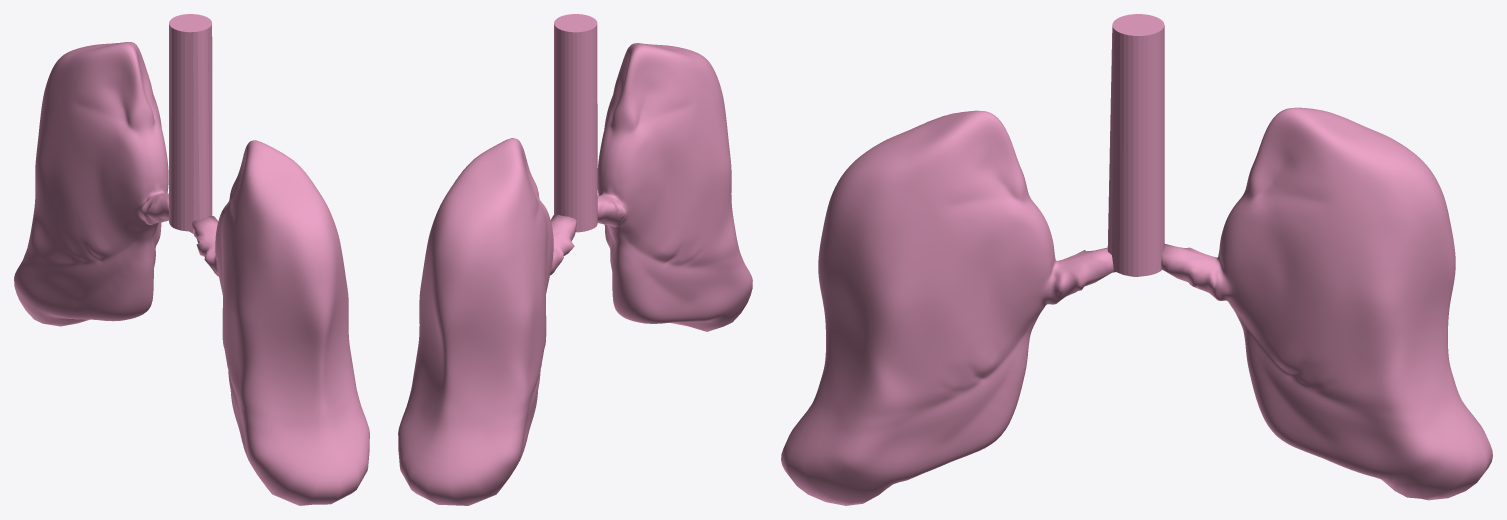
Rendered from lungs.fbx.
3 views of the same model, side by side, from view 1: azimuth 30°, elevation 25°; view 2: azimuth 150°, elevation 25°; view 3: azimuth 270°, elevation 25° (orthographic). The views are drawn at different scales.
Parts seen in each view (by area): view 1: Quad Sphere; view 2: Quad Sphere; view 3: Quad Sphere.
Part boxes in pixels (box(x1,y1,x2,y2)): Quad Sphere: box(14, 14, 369, 505); Quad Sphere: box(398, 14, 752, 505); Quad Sphere: box(781, 14, 1492, 505).
Size of the model in its own units: 188 by 596 by 820.
